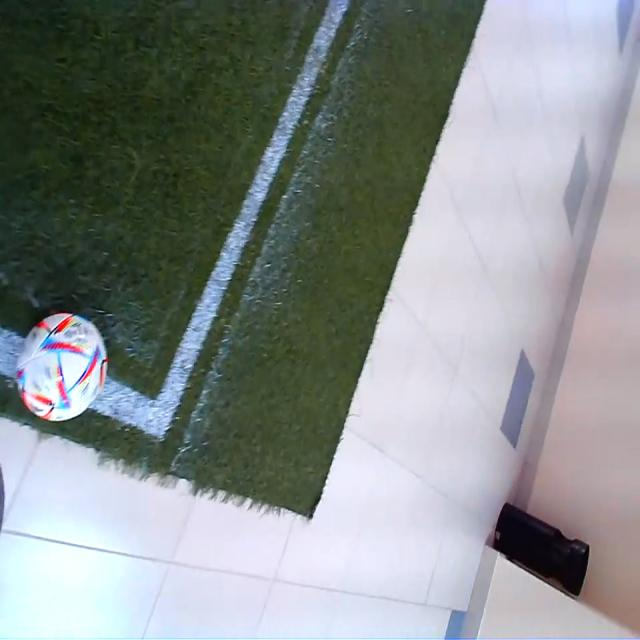ball: (16, 311, 108, 422)
